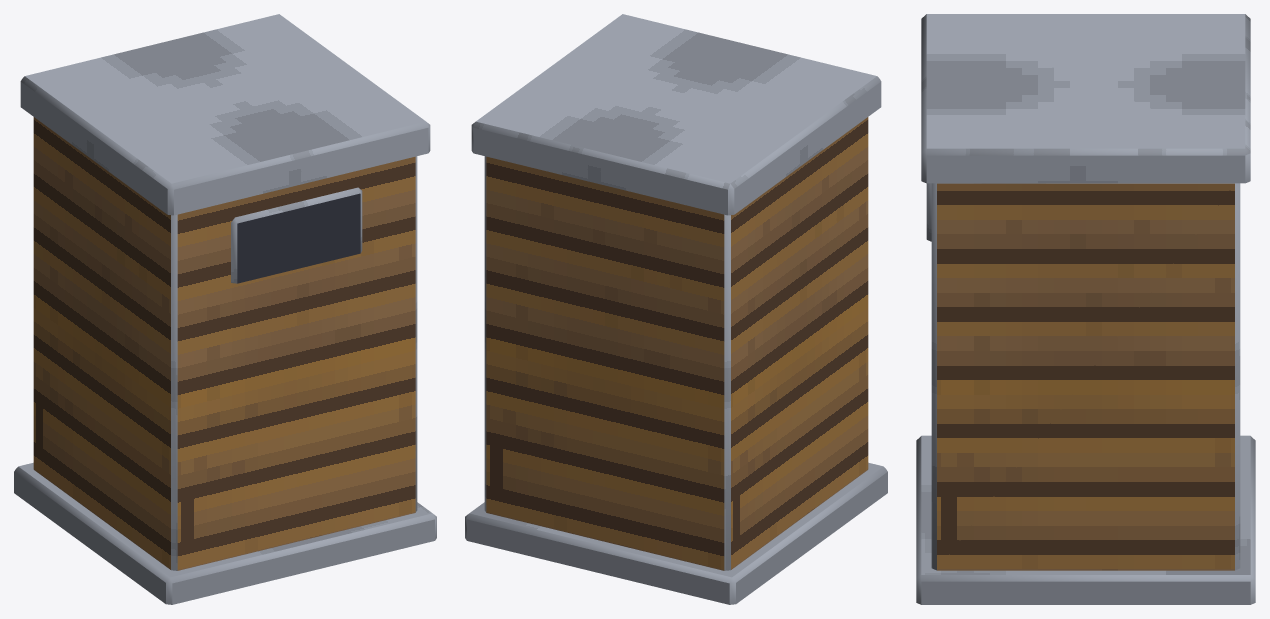
Rendered from trash_bin_1.glb.
3 views of the same model, side by side, from view 1: azimuth 30°, elevation 25°; view 2: azimuth 150°, elevation 25°; view 3: azimuth 270°, elevation 25° (orthographic). The views are drawn at different scales.
Parts seen in each view (by area): view 1: trash_bin_2; view 2: trash_bin_2; view 3: trash_bin_2.
Boxes of the visible parts, x1,y1,x2,y2 form: trash_bin_2: (14, 14, 436, 604); trash_bin_2: (465, 14, 887, 604); trash_bin_2: (916, 14, 1255, 604).
Size of the model in its own units: 0.66 by 0.97 by 0.66.
4 materials, 4 textured.
